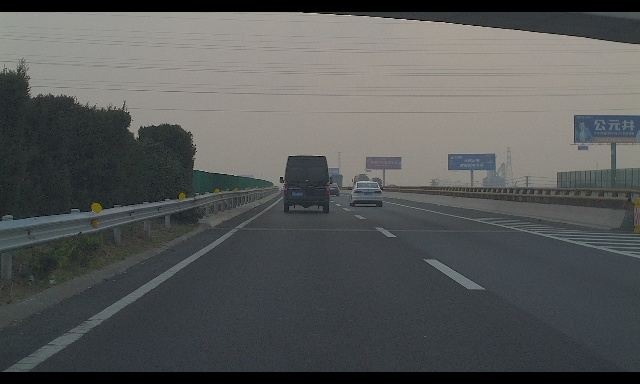car: (279, 155, 333, 213), (348, 181, 383, 207), (324, 183, 340, 196)
truck: (352, 173, 369, 191), (328, 173, 342, 189), (369, 177, 383, 191)
